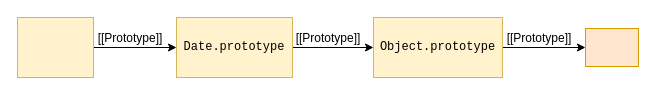
Image size: 656x95. Some labels were removed from this diagram. The centre of each missing label's shape, as x and y in pixels:
date: the point at 55,47
null: the point at 611,47
